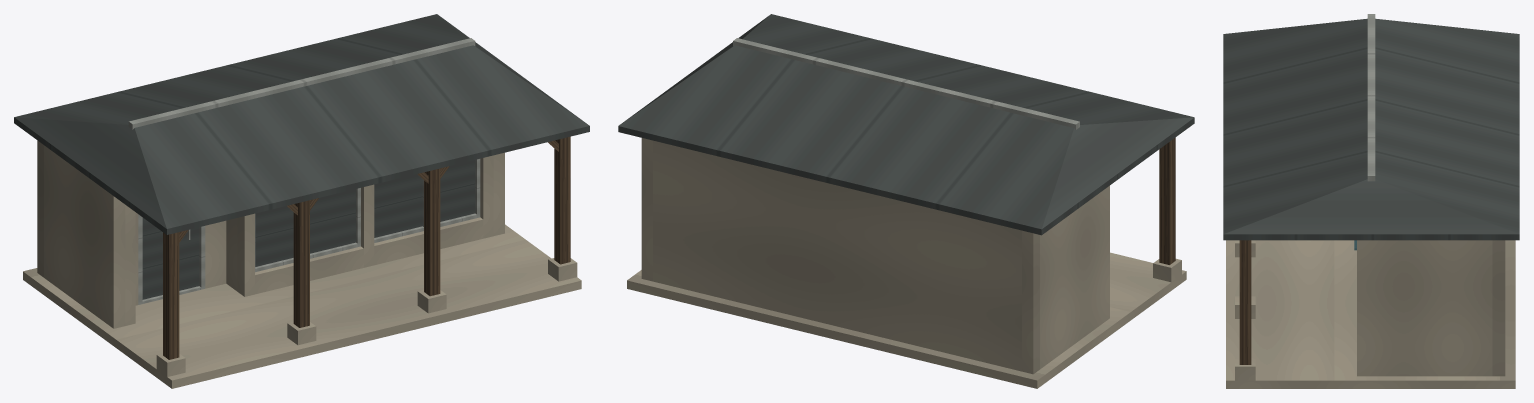
3 views of the same model, side by side, from view 1: azimuth 30°, elevation 25°; view 2: azimuth 150°, elevation 25°; view 3: azimuth 270°, elevation 25° (orthographic). The views are drawn at different scales.
Parts seen in each view (by area): view 1: auckland; view 2: auckland; view 3: auckland.
Boxes of the visible parts, <box> form: auckland: <box>14,14,589,388</box>; auckland: <box>618,14,1194,388</box>; auckland: <box>1223,14,1519,388</box>.
Size of the model in its own units: 7.35 by 3.37 by 4.6.
Materials: 1 (1 with a texture image).
